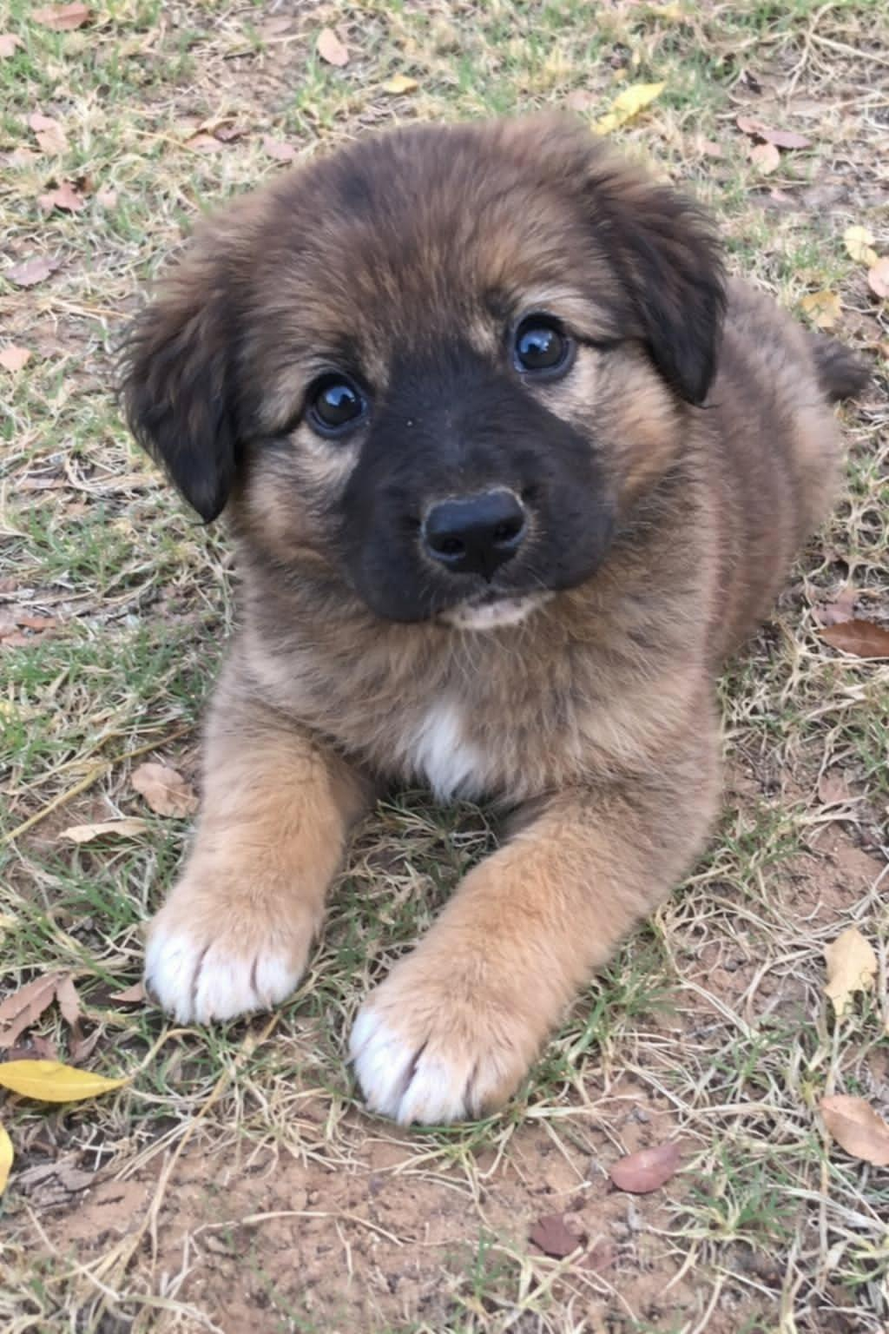puppy-dog: (113, 107, 875, 1130)
